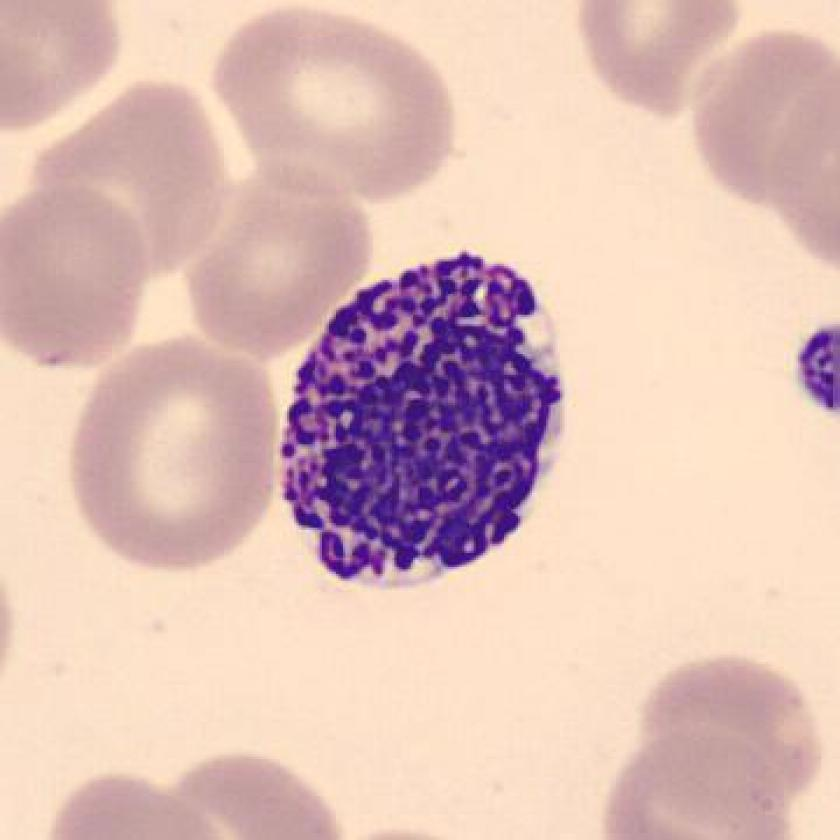basophil: (272, 249, 580, 610)
